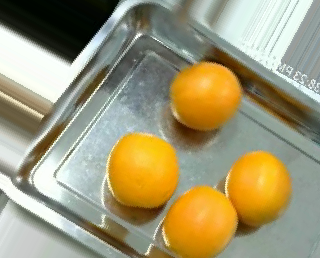Orange: (105, 132, 178, 208), (162, 185, 238, 256), (169, 61, 243, 132), (224, 149, 292, 226)
